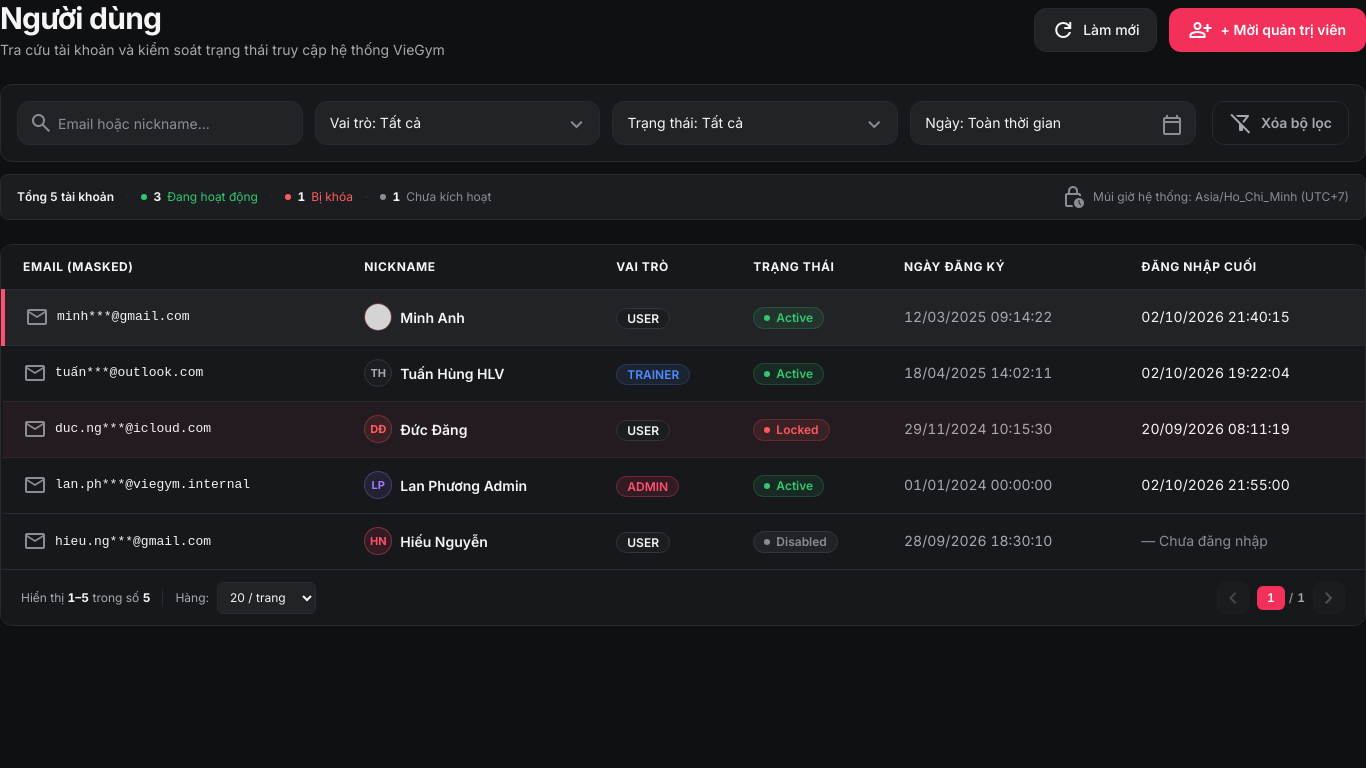
Scenario: UserListPage › opens invite modal when clicking + Mời quản trị viên
Click the button "+ Mời quản trị viên": (1267, 30) [1169,8,1365,52]
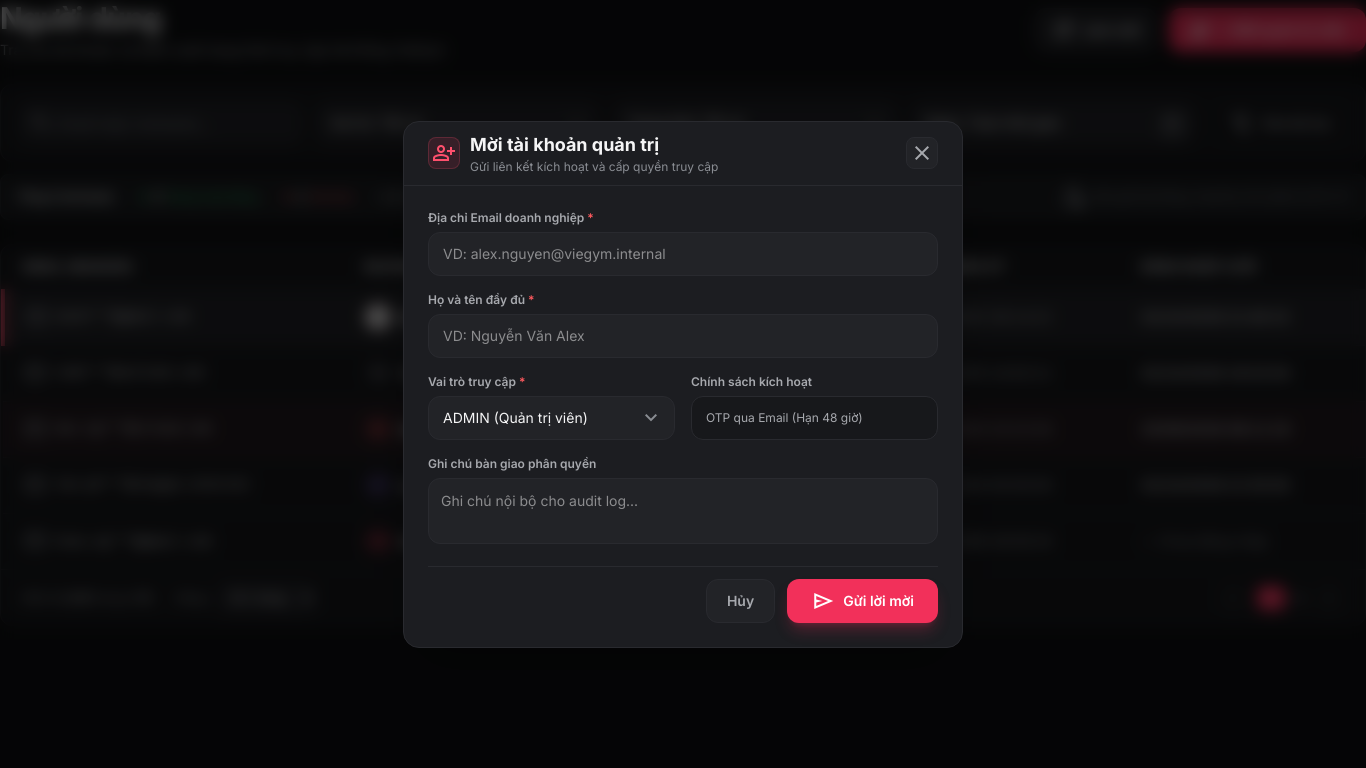
Result: the heading "Mời tài khoản quản trị" is shown at [470,134,659,155]
Result: the field with placeholder "VD: alex.nguyen@viegym.internal" is shown at [428,232,938,276]
